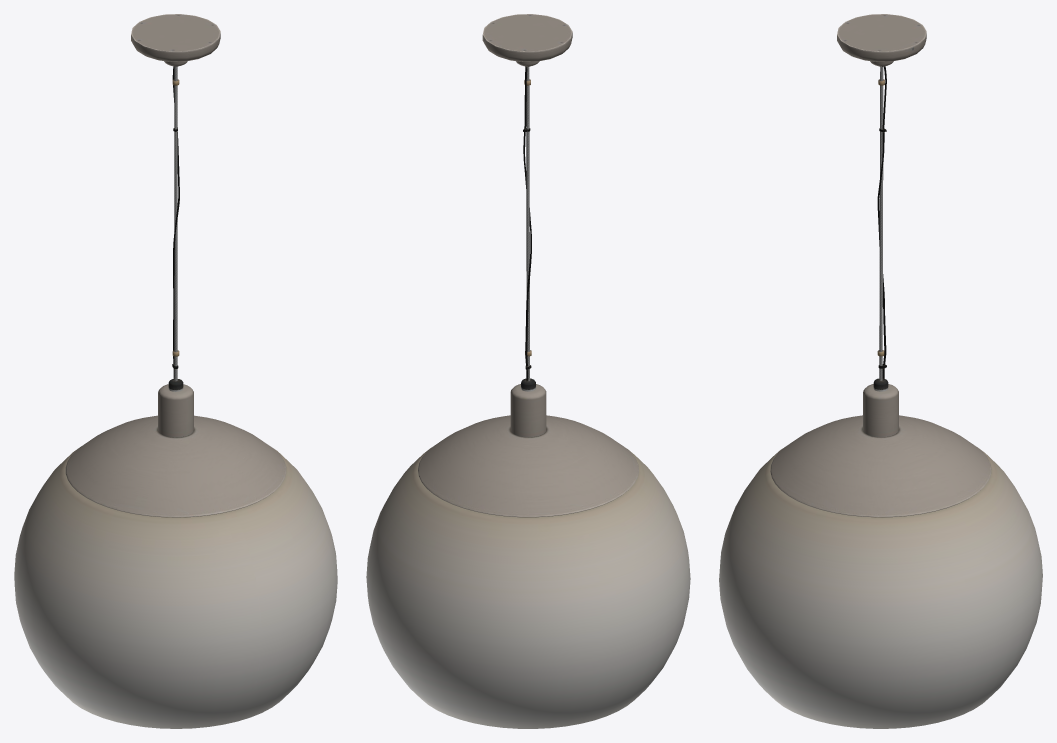
File: modern_ceiling_lamp_01.gltf
The picture shows the model from 3 angles, left to right: view 1: azimuth 30°, elevation 25°; view 2: azimuth 150°, elevation 25°; view 3: azimuth 270°, elevation 25°; orthographic projection.
Visible parts, largest first — view 1: modern_ceiling_lamp_01; view 2: modern_ceiling_lamp_01; view 3: modern_ceiling_lamp_01.
Part boxes in pixels (box(x1,y1,x2,y2)): modern_ceiling_lamp_01: box(14, 14, 337, 728); modern_ceiling_lamp_01: box(366, 14, 690, 728); modern_ceiling_lamp_01: box(719, 14, 1042, 728).
Size of the model in its own units: 0.4316 by 0.9516 by 0.4317.
3 materials, 3 textured.
